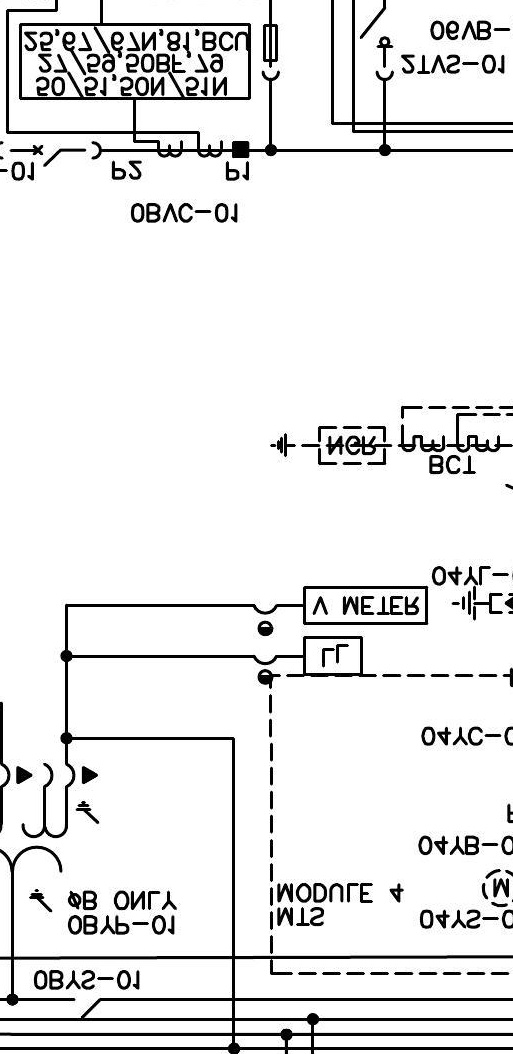115_ds: (71, 997, 101, 1018)
LL: (302, 635, 364, 676)
v_m_digital: (302, 585, 429, 626)
